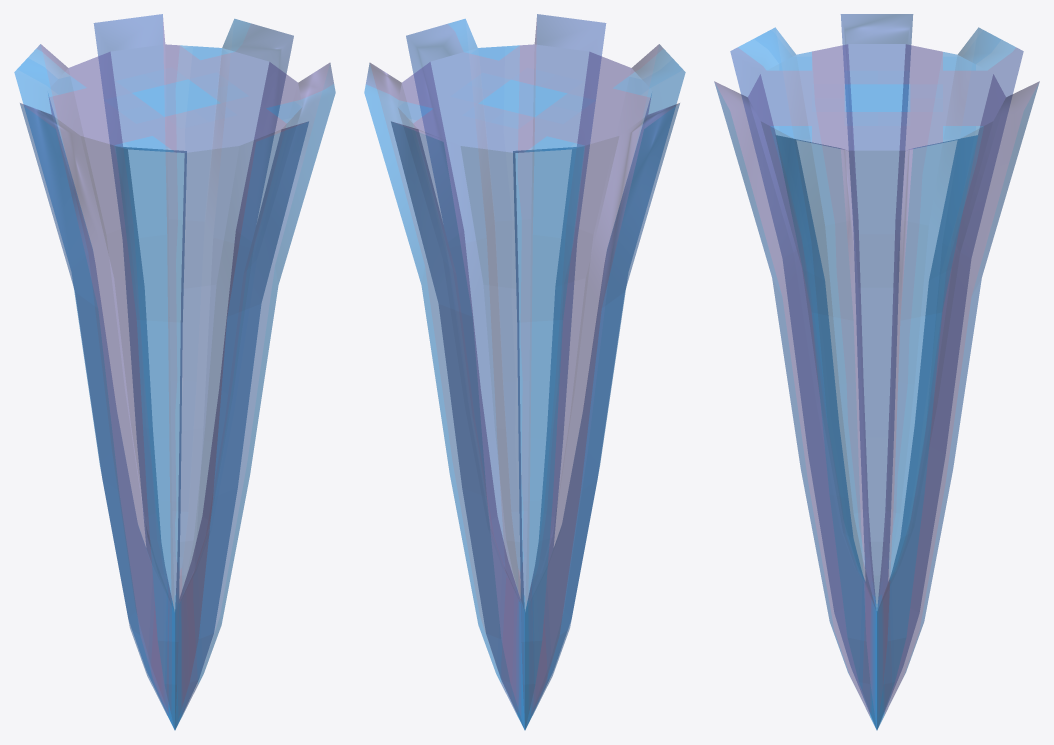
The model's file is tornado.obj.
3 views of the same model, side by side, from view 1: azimuth 30°, elevation 25°; view 2: azimuth 150°, elevation 25°; view 3: azimuth 270°, elevation 25° (orthographic).
Parts seen in each view (by area): view 1: Cone; view 2: Cone; view 3: Cone.
Part boxes in pixels (bbox=[...]): Cone: bbox=[14, 14, 335, 730]; Cone: bbox=[364, 14, 685, 730]; Cone: bbox=[714, 14, 1039, 730].
Bounding box in the file's own units: 15.1 × 34.09 × 15.49.
Materials: 1 (1 with a texture image).
